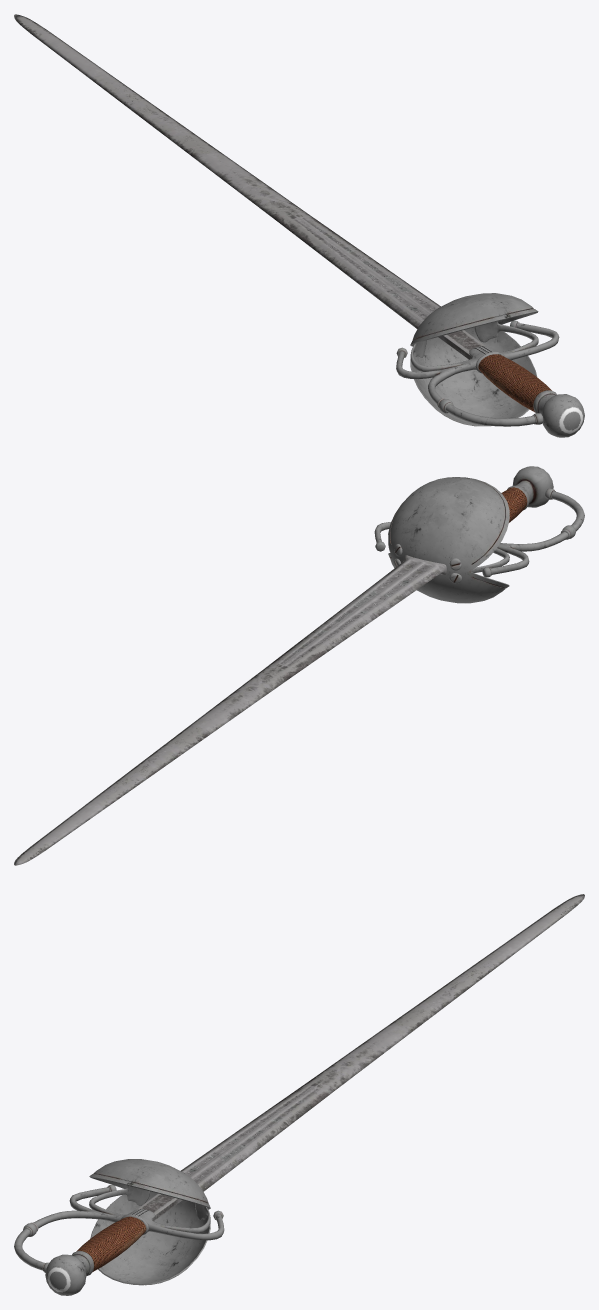
Rendered from rapier.glb.
3 renders of one model, top to bottom at view 1: azimuth 30°, elevation 25°; view 2: azimuth 150°, elevation 25°; view 3: azimuth 330°, elevation 25°, orthographic. The views are drawn at different scales.
Visible parts, largest first — view 1: hoja_low, guarda_low, virola_low, mango_low, pomo_low; view 2: hoja_low, guarda_low, virola_low, pomo_low, mango_low; view 3: hoja_low, guarda_low, virola_low, mango_low, pomo_low.
Part boxes in pixels (x1,y1,x2,y2): hoja_low: [14, 14, 485, 359]; guarda_low: [410, 293, 538, 426]; virola_low: [396, 321, 559, 426]; mango_low: [478, 354, 551, 412]; pomo_low: [533, 390, 584, 437]; hoja_low: [14, 555, 446, 865]; guarda_low: [388, 477, 509, 603]; virola_low: [374, 491, 584, 574]; pomo_low: [507, 466, 553, 510]; mango_low: [501, 487, 527, 522]; hoja_low: [136, 894, 584, 1220]; guarda_low: [89, 1159, 210, 1285]; virola_low: [14, 1185, 224, 1270]; mango_low: [76, 1216, 146, 1272]; pomo_low: [45, 1251, 93, 1295].
Bounding box in the file's own units: 0.3378 × 0.239 × 2.
Materials: 2 (2 with a texture image).
